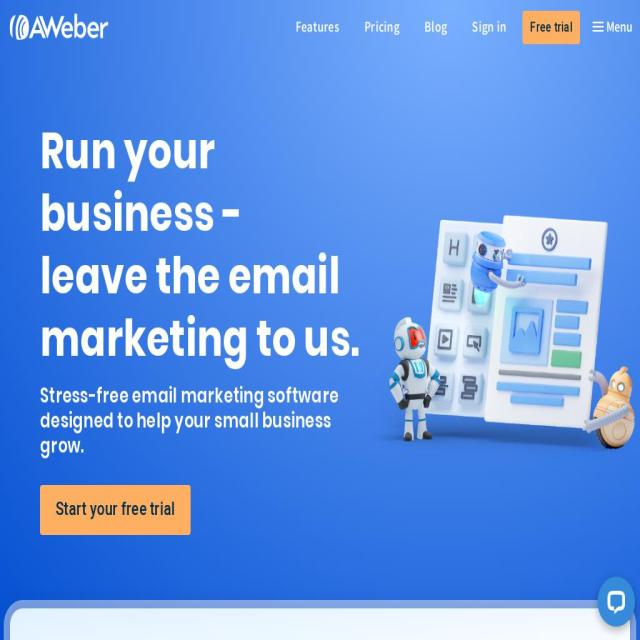button: (40, 485, 191, 535), (282, 0, 351, 53), (352, 0, 412, 53), (459, 0, 518, 53), (411, 0, 459, 53), (10, 13, 90, 40), (522, 11, 580, 44)
heading: (40, 120, 362, 370), (40, 384, 362, 458)
iframe: (587, 570, 640, 640)
image: (370, 214, 640, 478), (10, 13, 110, 40)
